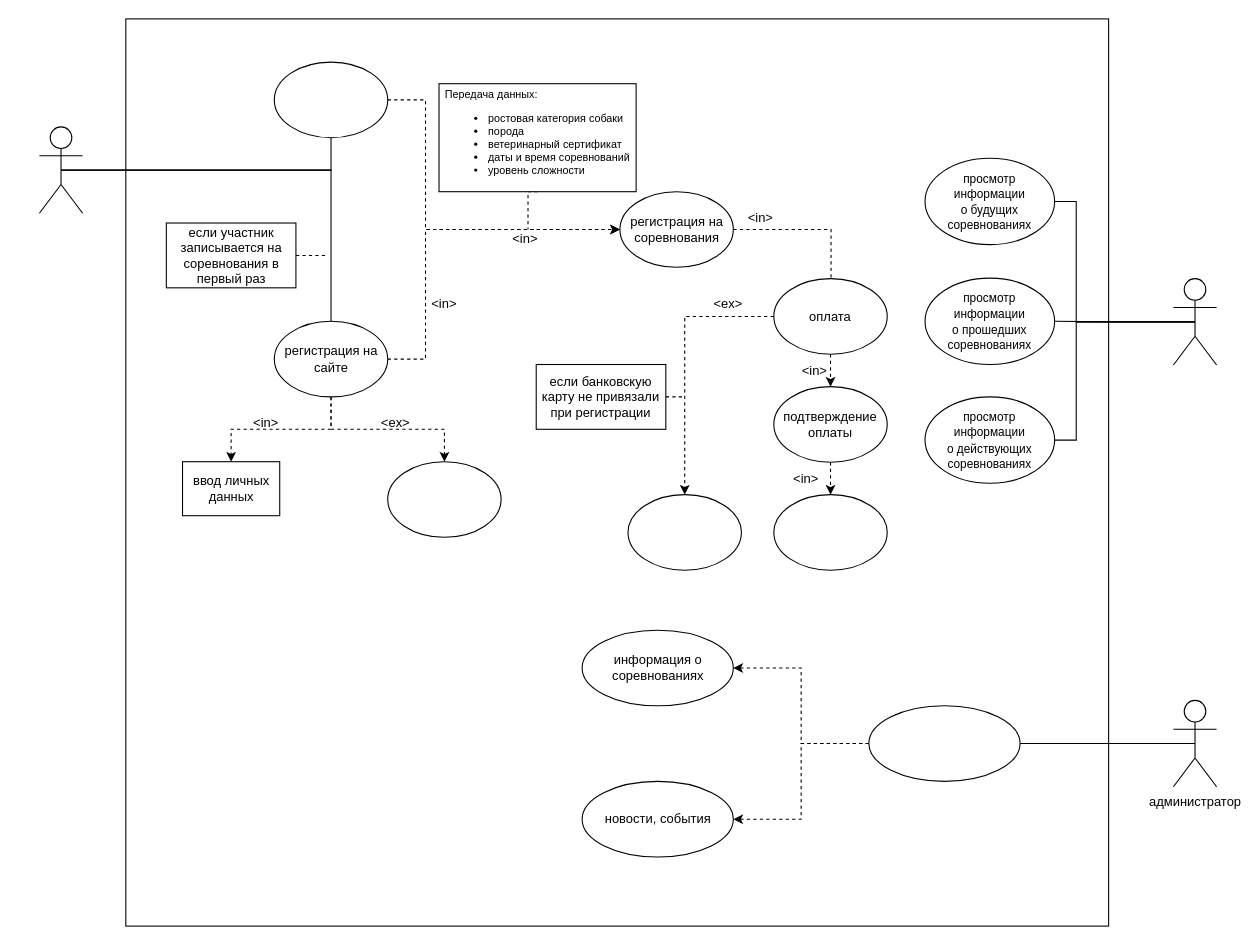
Some shapes in this 1259 by 945 pixel diagram are drawn without their labels. Each missing label, with the centre of its shape:
"авторизация" goes at (x=330, y=99).
"ввод банковской карты" goes at (x=684, y=532).
"наблюдатель" goes at (x=1194, y=321).
"наполнение сайта" goes at (x=944, y=743).
"получать уведомления" goes at (x=830, y=532).
"привязка банковской карты" goes at (x=444, y=499).
"участник соревнований" goes at (x=60, y=169).
